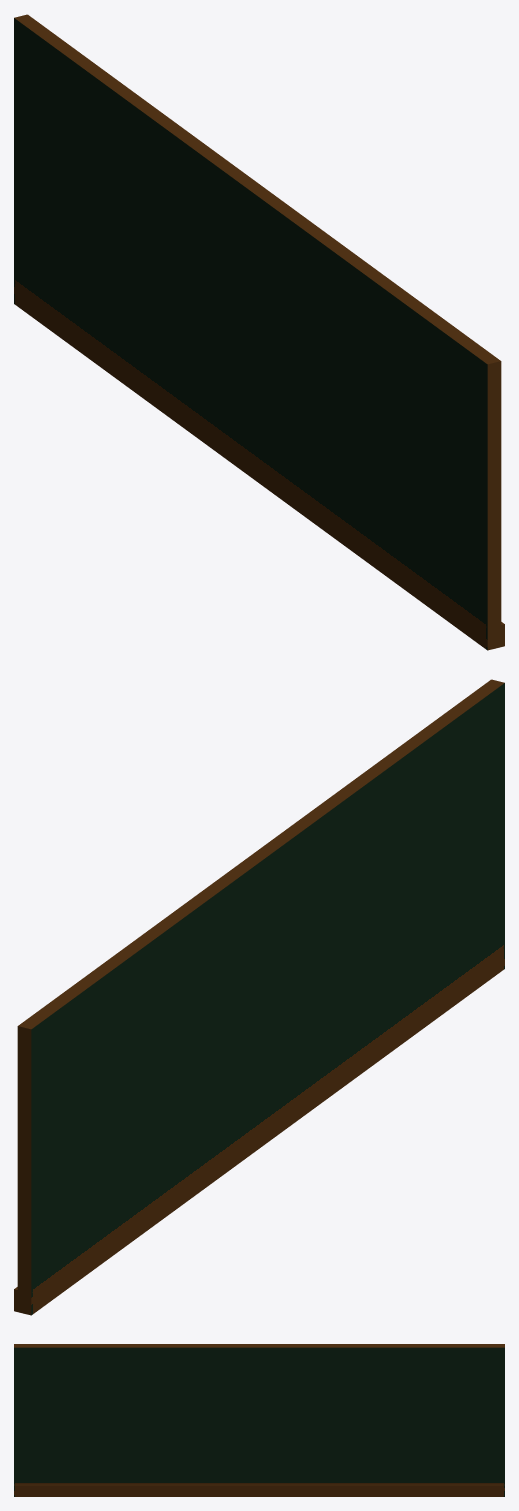
The model's file is tableau.glb.
The picture shows the model from 3 angles, top to bottom: view 1: azimuth 30°, elevation 25°; view 2: azimuth 150°, elevation 25°; view 3: azimuth 270°, elevation 25°; orthographic projection. The views are drawn at different scales.
Parts seen in each view (by area): view 1: Cube; view 2: Cube; view 3: Cube.
Boxes of the visible parts, bbox=[...] form: Cube: bbox=[14, 14, 504, 650]; Cube: bbox=[14, 679, 504, 1315]; Cube: bbox=[14, 1344, 504, 1496].
Size of the model in its own units: 0.0639 by 1 by 3.
1 material, 1 textured.
